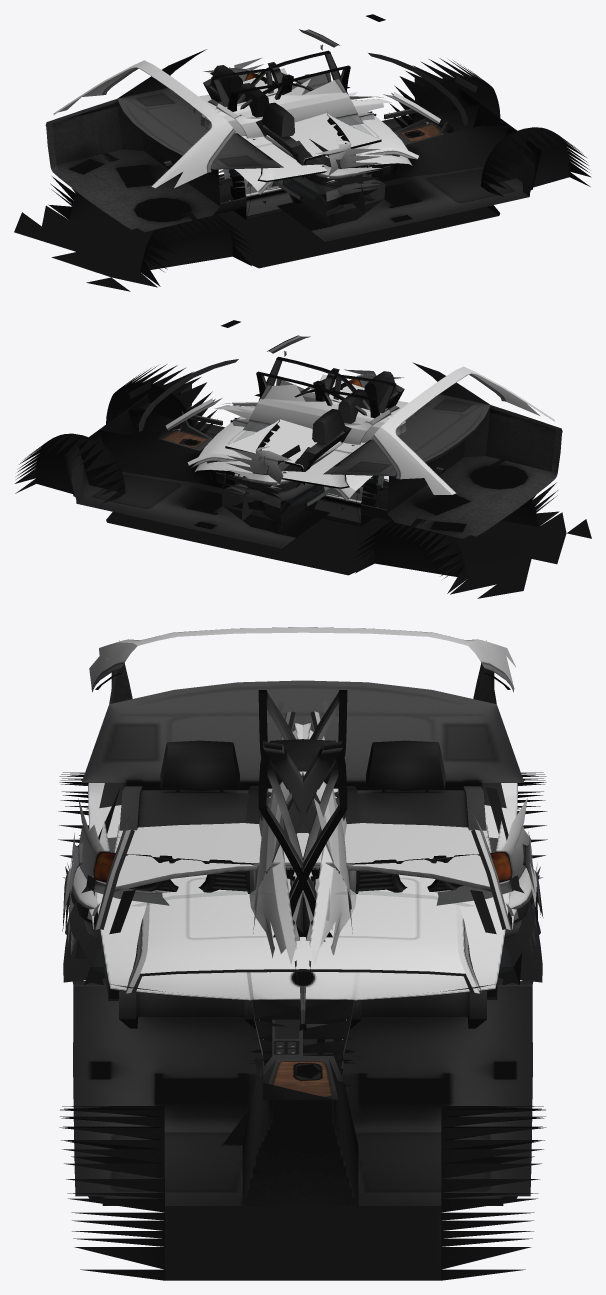
3 renders of one model, top to bottom at view 1: azimuth 30°, elevation 25°; view 2: azimuth 150°, elevation 25°; view 3: azimuth 270°, elevation 25°, orthographic. The views are drawn at different scales.
Parts seen in each view (by area): view 1: e34sys_cabin-carpet_d5c646cb, e34body_shell_af3455d4, e34sys_rear-seat-cushion_6b4c83fb, e34body_rear-quarter-right_a0b11fea, e34body_rear-bumper_6c04aad1, e34body_trunk_d5f193bc, e34body_hood_90bfd0b4, e34body_front-door-right_538db514, e34body_front-bumper_5e657711, e34body_roof_1b7e4b5b, e34body_front-fender-right_991ca033, e34sys_front-seat-1_bbf076a6 (+7 smaller); view 2: e34sys_cabin-carpet_d5c646cb, e34body_shell_af3455d4, e34sys_rear-seat-cushion_6b4c83fb, e34body_rear-quarter-left_91dc4102, e34body_trunk_d5f193bc, e34body_rear-bumper_6c04aad1, e34body_hood_90bfd0b4, e34body_front-bumper_5e657711, e34body_front-door-left_12d46a69, e34body_roof_1b7e4b5b, e34body_front-fender-left_6c55ec87, e34sys_front-seat-1_bbf076a6 (+7 smaller); view 3: e34sys_cabin-carpet_d5c646cb, e34body_shell_af3455d4, e34body_roof_1b7e4b5b, e34sys_rear-seat-cushion_6b4c83fb, e34body_hood_90bfd0b4, e34body_trunk_d5f193bc, e34body_front-bumper_5e657711, e34sys_dashboard_a31885b6, e34body_rear-quarter-left_91dc4102, e34body_front-fender-right_991ca033, e34body_rear-quarter-right_a0b11fea, e34body_front-fender-left_6c55ec87 (+8 smaller).
Boxes of the visible parts, box(x1,y1,x2,y2) form: e34sys_cabin-carpet_d5c646cb: box(45, 14, 541, 241); e34body_shell_af3455d4: box(14, 29, 591, 291); e34sys_rear-seat-cushion_6b4c83fb: box(203, 65, 385, 225); e34body_rear-quarter-right_a0b11fea: box(200, 79, 390, 198); e34body_rear-bumper_6c04aad1: box(229, 57, 382, 204); e34body_trunk_d5f193bc: box(219, 68, 381, 199); e34body_hood_90bfd0b4: box(198, 95, 412, 182); e34body_front-door-right_538db514: box(211, 69, 372, 219); e34body_front-bumper_5e657711: box(203, 68, 362, 216); e34body_roof_1b7e4b5b: box(234, 111, 418, 194); e34body_front-fender-right_991ca033: box(207, 99, 391, 214); e34sys_front-seat-1_bbf076a6: box(237, 83, 302, 204); e34sys_cabin-carpet_d5c646cb: box(64, 320, 562, 548); e34body_shell_af3455d4: box(14, 335, 591, 598); e34sys_rear-seat-cushion_6b4c83fb: box(221, 371, 404, 532); e34body_rear-quarter-left_91dc4102: box(216, 384, 406, 502); e34body_trunk_d5f193bc: box(225, 374, 388, 506); e34body_rear-bumper_6c04aad1: box(225, 369, 376, 510); e34body_hood_90bfd0b4: box(194, 401, 408, 488); e34body_front-bumper_5e657711: box(243, 374, 403, 523); e34body_front-door-left_12d46a69: box(234, 375, 396, 526); e34body_roof_1b7e4b5b: box(187, 416, 372, 501); e34body_front-fender-left_6c55ec87: box(214, 405, 400, 520); e34sys_front-seat-1_bbf076a6: box(304, 389, 370, 511); e34sys_cabin-carpet_d5c646cb: box(72, 640, 533, 1211); e34body_shell_af3455d4: box(58, 627, 547, 1280); e34body_roof_1b7e4b5b: box(125, 877, 482, 993); e34sys_rear-seat-cushion_6b4c83fb: box(119, 740, 486, 1028); e34body_hood_90bfd0b4: box(88, 783, 517, 1000); e34body_trunk_d5f193bc: box(114, 823, 491, 891); e34body_front-bumper_5e657711: box(65, 798, 540, 938); e34sys_dashboard_a31885b6: box(63, 787, 542, 1000); e34body_rear-quarter-left_91dc4102: box(253, 722, 353, 1085); e34body_front-fender-right_991ca033: box(249, 701, 355, 1063); e34body_rear-quarter-right_a0b11fea: box(252, 722, 352, 1086); e34body_front-fender-left_6c55ec87: box(250, 701, 356, 1063).
Size of the model in its own units: 3.96 by 1.21 by 1.74.
Materials: 3 (3 with a texture image).
